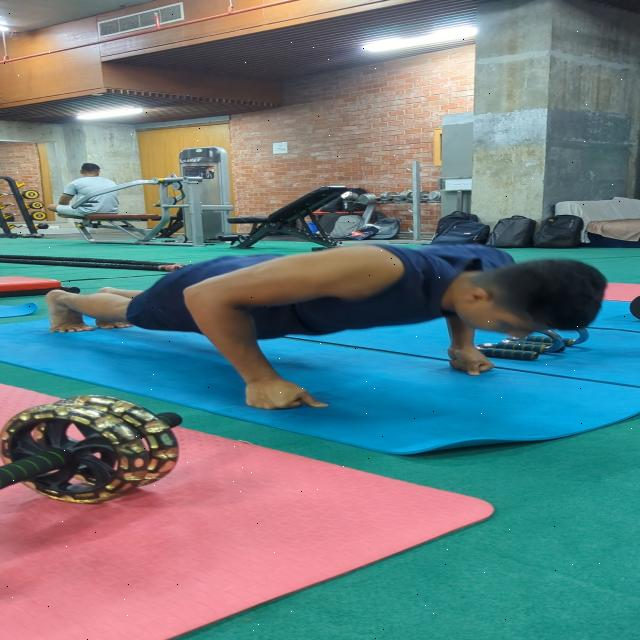Normal_PushUps: (44, 240, 637, 420)
